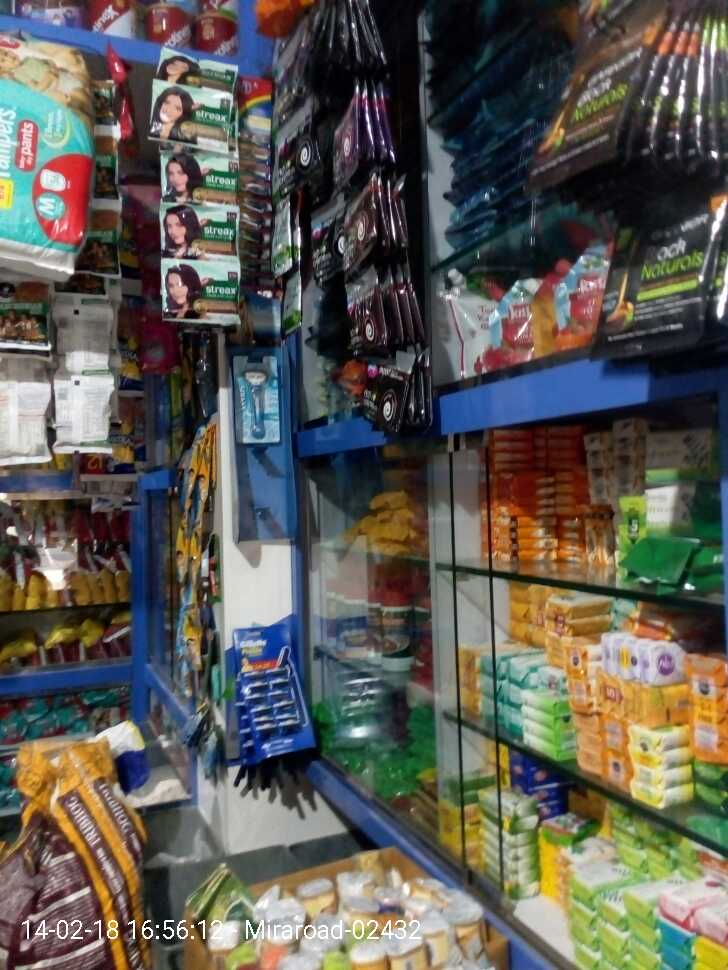beauty: (211, 621, 320, 759), (220, 350, 279, 447)
pharmacy: (4, 68, 97, 254)
